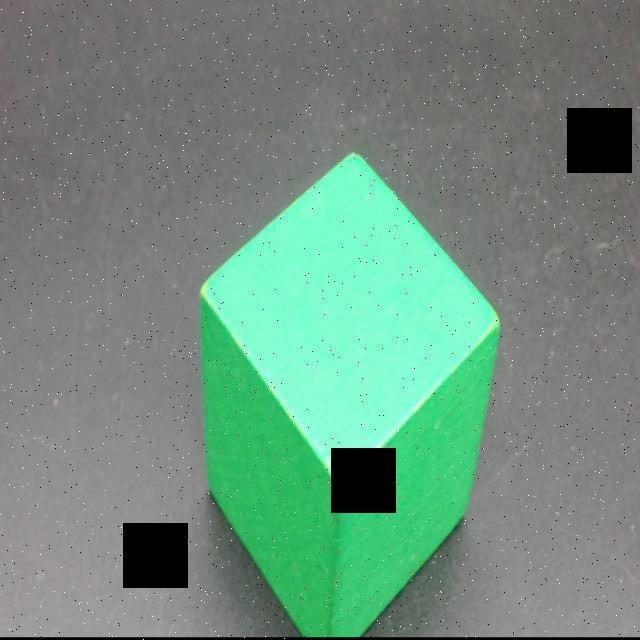green cube: (198, 155, 501, 634)
